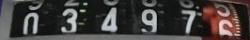digits: (213, 0, 238, 40), (136, 2, 166, 34), (176, 4, 200, 36), (100, 7, 118, 31), (60, 8, 77, 32), (22, 12, 38, 34)
